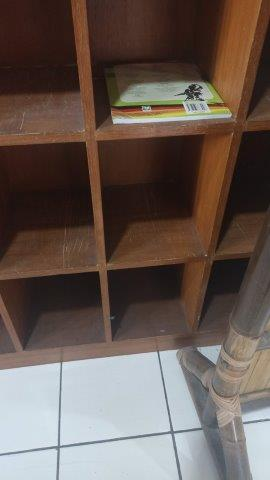kertas: (105, 63, 234, 121)
